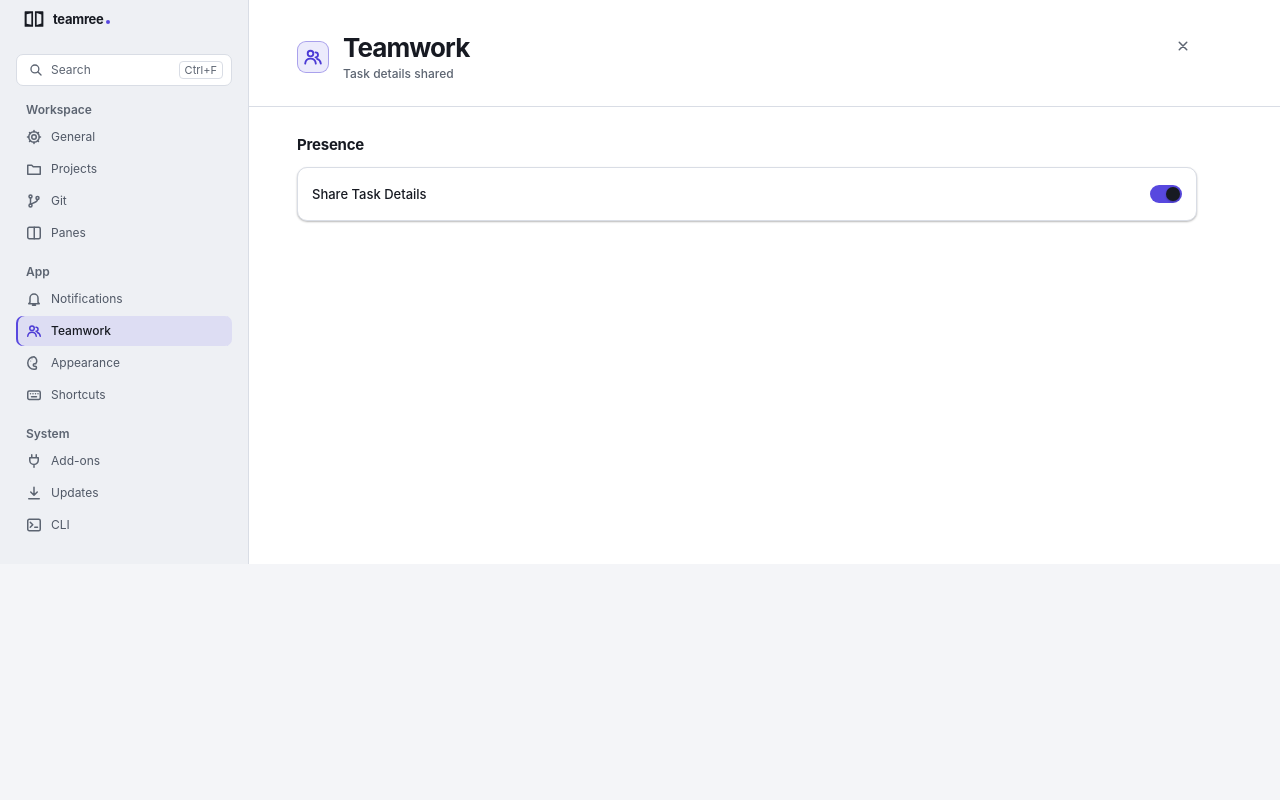
Test: Teamwork › turns Share Task Details off through the runtime, and says why when it cannot
Step 1. Click the switch labelled "Share Task Details" → x=1166, y=194, box [1150,185,1182,203]
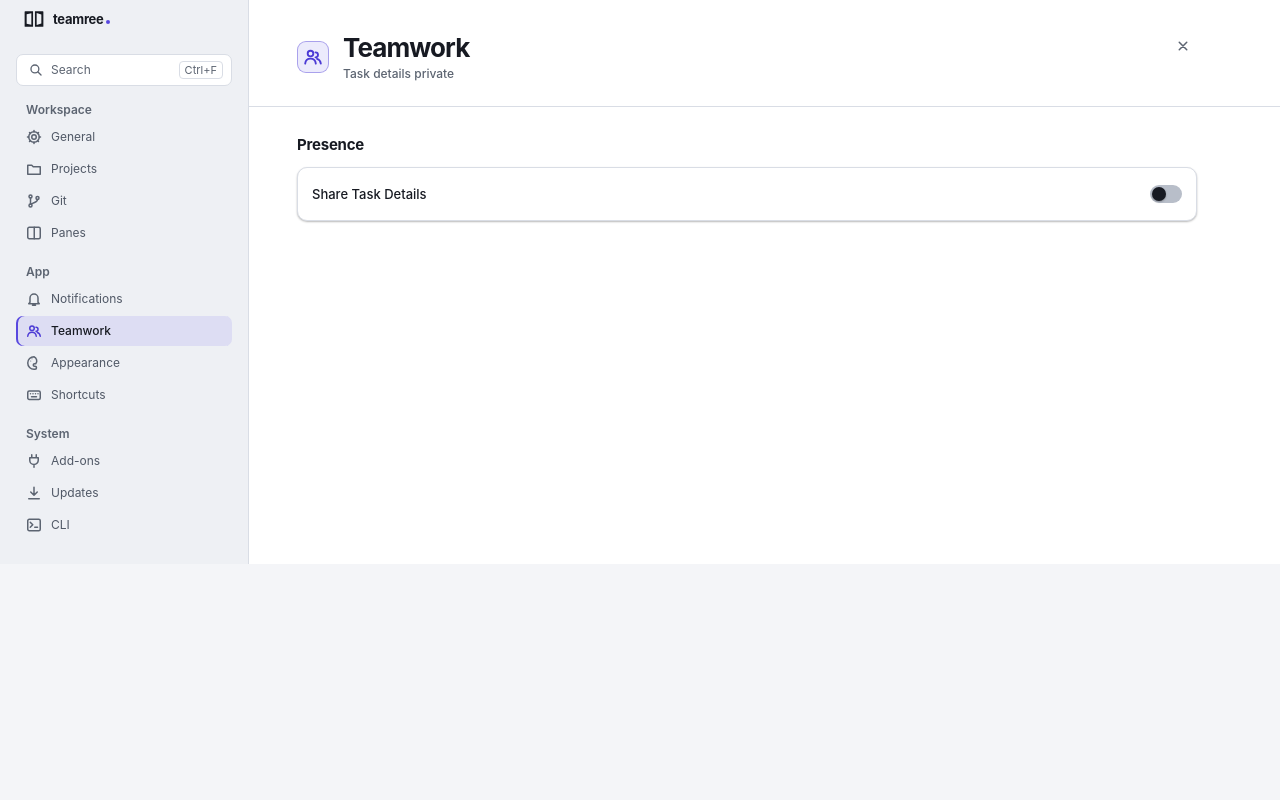
expect the switch labelled "Share Task Details" is not checked: met
Step 2. Click the switch labelled "Share Task Details" → x=1166, y=194, box [1150,185,1182,203]
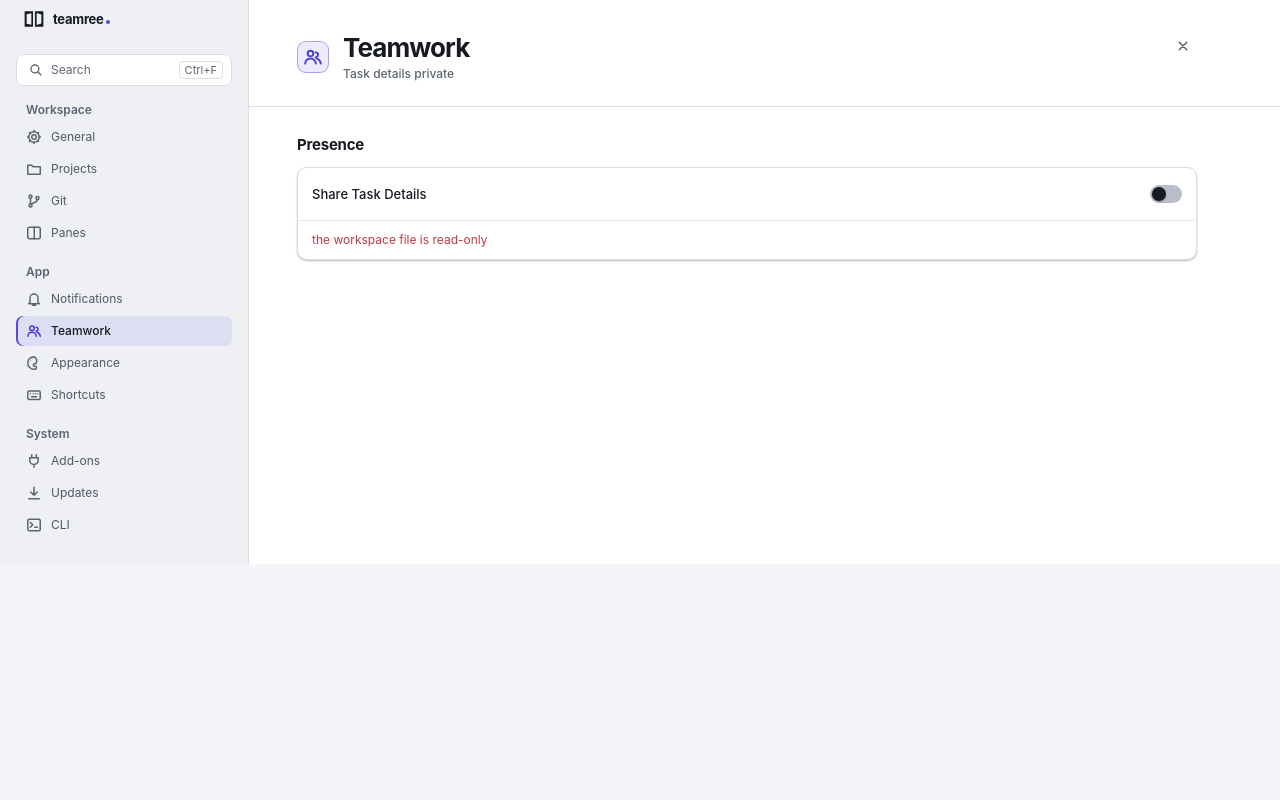
expect the switch labelled "Share Task Details" is not checked: met, box [1150,185,1182,203]
expect the text "the workspace file is read-only" is shown: met, box [298,220,1196,259]
